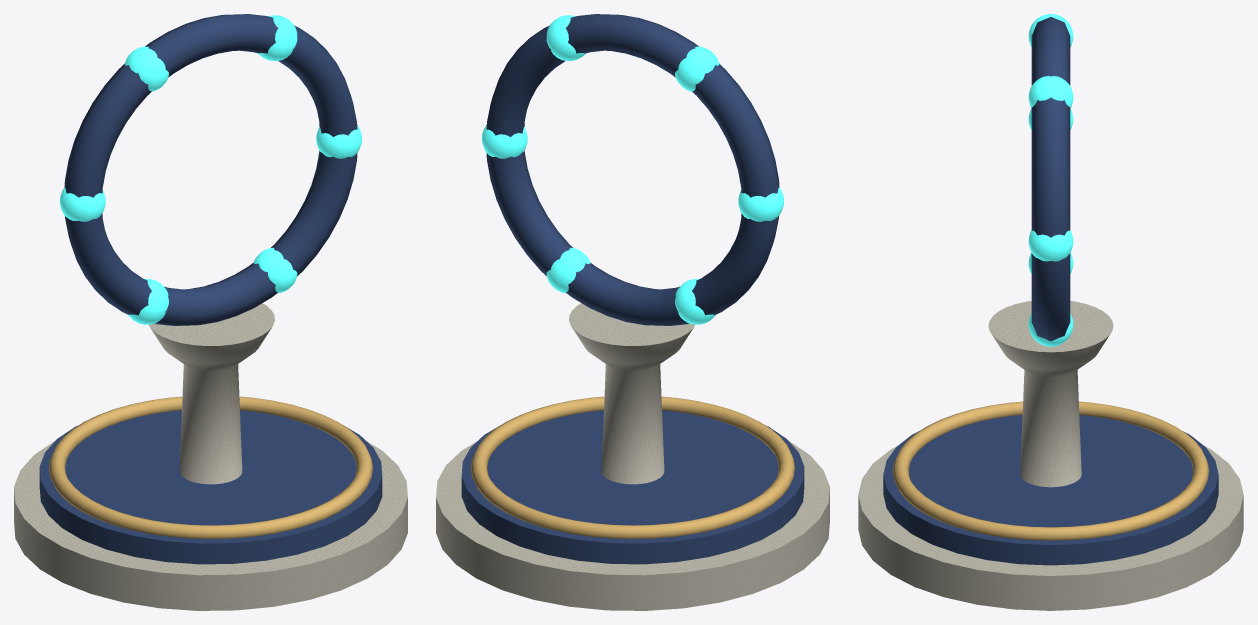
The model's file is arcane-academy-and-spell-trials-rotating-rune-puzzle-c07ecf69__28301.glb.
3 views of the same model, side by side, from view 1: azimuth 30°, elevation 25°; view 2: azimuth 150°, elevation 25°; view 3: azimuth 270°, elevation 25° (orthographic). The views are drawn at different scales.
Visible parts, largest first — view 1: rotating-rune-puzzle, rune (×2); view 2: rotating-rune-puzzle, rune (×2); view 3: rotating-rune-puzzle, rune (×2).
Part boxes in pixels (left/top/right/bottom): rotating-rune-puzzle: left=14, top=303, right=407, bottom=610; rune (×2): left=59, top=14, right=362, bottom=325; rotating-rune-puzzle: left=436, top=303, right=829, bottom=610; rune (×2): left=481, top=14, right=784, bottom=325; rotating-rune-puzzle: left=858, top=301, right=1243, bottom=610; rune (×2): left=1028, top=14, right=1073, bottom=346.
Size of the model in its own units: 1.2 by 1.71 by 1.2.
Materials: 4 (1 with a texture image).
